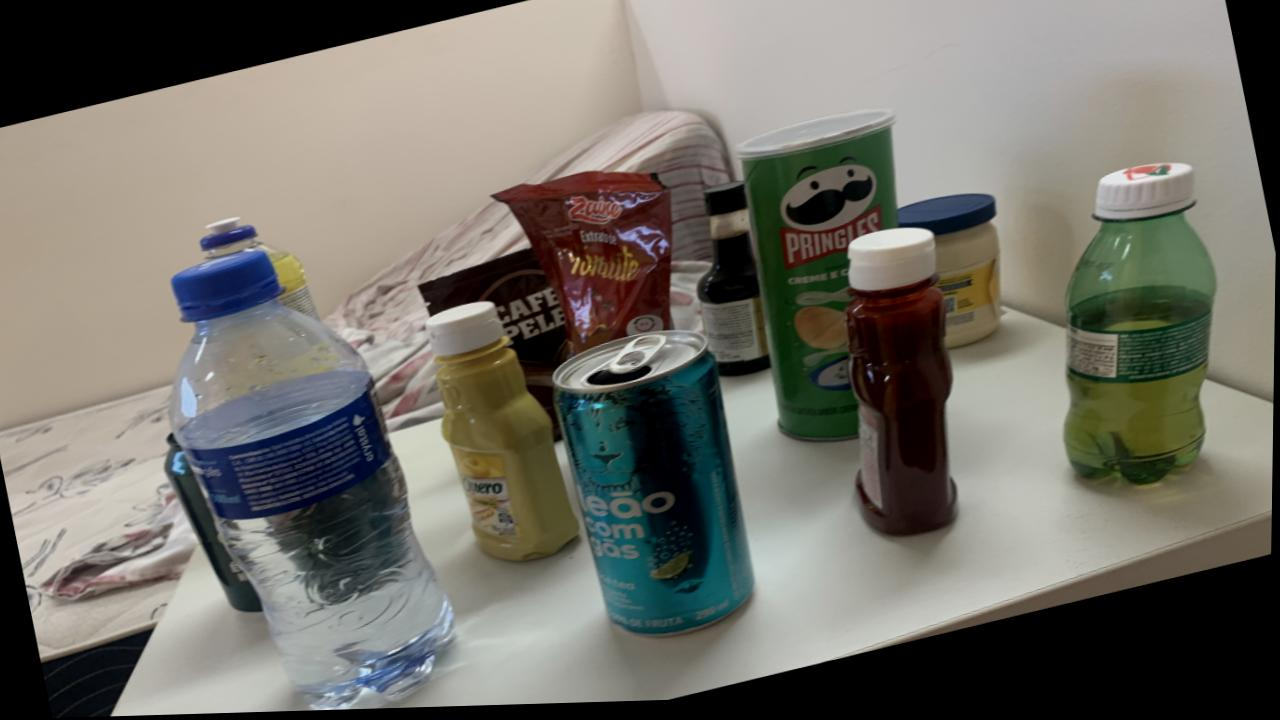Coffee-Pantry_Items: (419, 251, 569, 442)
Detergent-Cleanup_Items: (199, 218, 317, 320)
English_Sauce-Pantry_Items: (697, 186, 769, 381)
Guarana-Drinks: (1064, 170, 1217, 492)
Ketchup-Pantry_Items: (846, 232, 958, 541)
Mayonnaise-Pantry_Items: (898, 199, 1003, 354)
Mustard-Pantry_Items: (427, 304, 581, 564)
Pringles-Snacks: (736, 115, 899, 447)
Tea-Drinks: (553, 334, 756, 640)
Tomato_Sauce-Pantry_Items: (493, 174, 674, 357)
Water_Bottle-Drinks: (170, 252, 452, 707)
